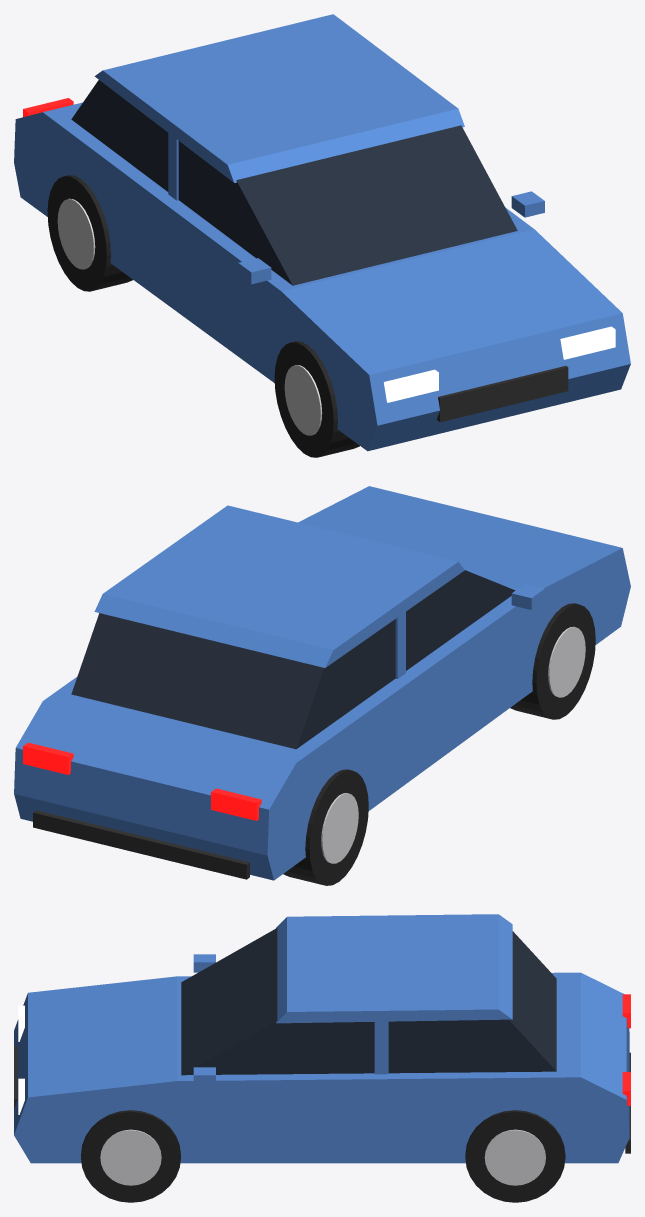
File: auto.glb
3 views of the same model, one above another, from view 1: azimuth 30°, elevation 25°; view 2: azimuth 150°, elevation 25°; view 3: azimuth 270°, elevation 25° (orthographic). The views are drawn at different scales.
Visible parts, largest first — view 1: Auto; view 2: Auto; view 3: Auto.
Part boxes in pixels (bbox=[...]): Auto: bbox=[14, 14, 630, 457]; Auto: bbox=[14, 486, 630, 885]; Auto: bbox=[14, 914, 630, 1202].
Bounding box in the file's own units: 2.06 × 1.48 × 4.43.
